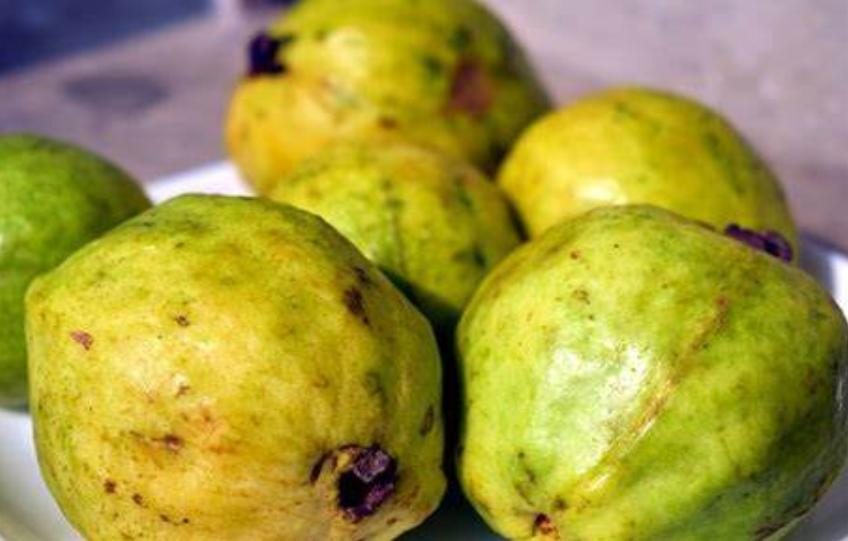guava_B: (24, 193, 449, 541), (445, 205, 848, 541)
